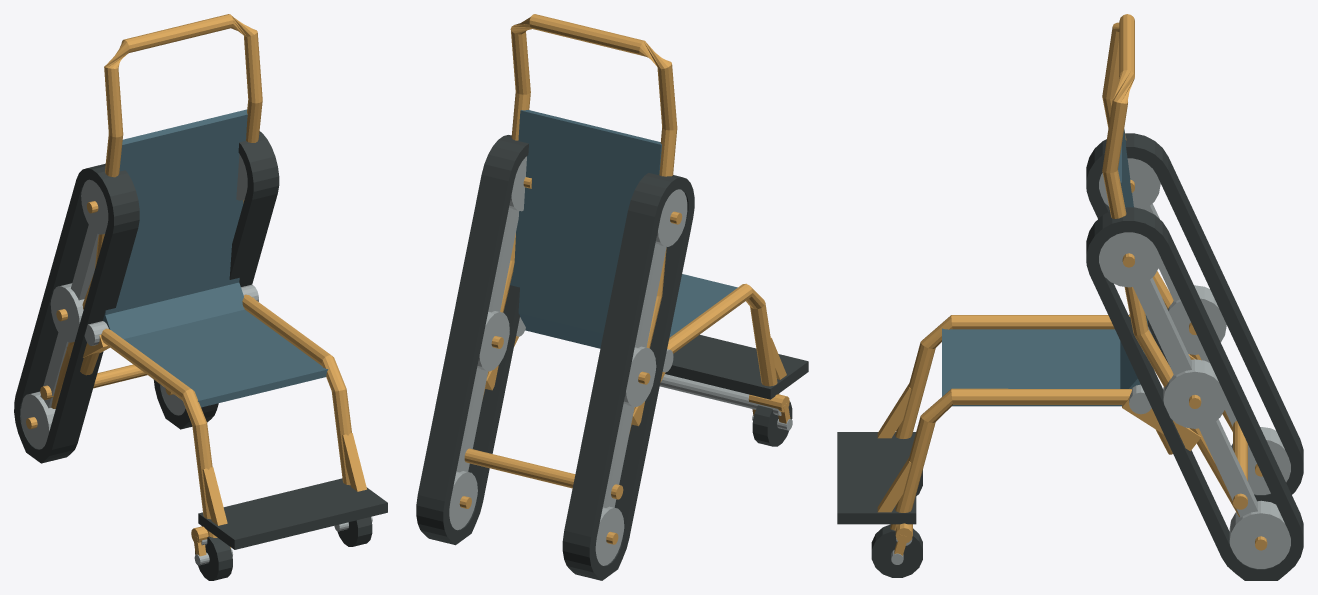
3 renders of one model, left to right at view 1: azimuth 30°, elevation 25°; view 2: azimuth 150°, elevation 25°; view 3: azimuth 270°, elevation 25°, orthographic. The views are drawn at different scales.
Visible parts, largest first — view 1: WholeContinuousSeatBackSling, WholeRearGroundFootTrack-1, WholeFrontFootPlatform, WholeTallBackAndCarryHoop, WholeRearGroundFootTrack1, WholeFrontSeatAndStandingSide-1, WholeFrontSeatAndStandingSide1, WholeInclinedTrackBearingRail-1, WholeTrackRoller(-1, 1), WholeTrackRoller(-1, 0), WholeFrontGroundFootWheel-1, WholeTrackRoller(-1, 2) (+4 smaller); view 2: WholeContinuousSeatBackSling, WholeRearGroundFootTrack-1, WholeRearGroundFootTrack1, WholeTallBackAndCarryHoop, WholeFrontFootPlatform, WholeFrontSeatAndStandingSide-1, WholeInclinedTrackBearingRail-1, WholeInclinedTrackBearingRail1, WholeRearLowCrossTie, WholeFrontTransverseSupport, WholeTrackRoller(1, 1), WholeTrackRoller(-1, 1) (+5 smaller); view 3: WholeRearGroundFootTrack1, WholeContinuousSeatBackSling, WholeRearGroundFootTrack-1, WholeTallBackAndCarryHoop, WholeFrontFootPlatform, WholeFrontSeatAndStandingSide1, WholeFrontSeatAndStandingSide-1, WholeInclinedTrackBearingRail1, WholeTrackRoller(1, 1), WholeTrackRoller(1, 0), WholeTrackRoller(1, 2), WholeFrontGroundFootWheel1 (+8 smaller).
Part boxes in pixels (x1=…): WholeContinuousSeatBackSling: x1=103, y1=109, x2=328, y2=407; WholeRearGroundFootTrack-1: x1=14, y1=163, x2=139, y2=463; WholeFrontFootPlatform: x1=198, y1=478, x2=387, y2=549; WholeTallBackAndCarryHoop: x1=51, y1=14, x2=262, y2=408; WholeRearGroundFootTrack1: x1=153, y1=131, x2=279, y2=429; WholeFrontSeatAndStandingSide-1: x1=80, y1=328, x2=217, y2=537; WholeFrontSeatAndStandingSide1: x1=242, y1=294, x2=351, y2=485; WholeInclinedTrackBearingRail-1: x1=40, y1=224, x2=98, y2=408; WholeTrackRoller(-1, 1): x1=50, y1=283, x2=84, y2=342; WholeTrackRoller(-1, 0): x1=21, y1=391, x2=55, y2=449; WholeFrontGroundFootWheel-1: x1=195, y1=536, x2=232, y2=580; WholeTrackRoller(-1, 2): x1=81, y1=179, x2=108, y2=234; WholeContinuousSeatBackSling: x1=510, y1=110, x2=737, y2=348; WholeRearGroundFootTrack-1: x1=562, y1=173, x2=694, y2=580; WholeRearGroundFootTrack1: x1=416, y1=135, x2=528, y2=545; WholeTallBackAndCarryHoop: x1=483, y1=14, x2=677, y2=433; WholeFrontFootPlatform: x1=665, y1=334, x2=808, y2=399; WholeFrontSeatAndStandingSide-1: x1=667, y1=283, x2=779, y2=394; WholeInclinedTrackBearingRail-1: x1=603, y1=243, x2=666, y2=507; WholeInclinedTrackBearingRail1: x1=456, y1=208, x2=519, y2=472; WholeRearLowCrossTie: x1=464, y1=448, x2=623, y2=499; WholeFrontTransverseSupport: x1=660, y1=374, x2=781, y2=415; WholeTrackRoller(1, 1): x1=477, y1=311, x2=509, y2=371; WholeTrackRoller(-1, 1): x1=623, y1=346, x2=656, y2=406; WholeRearGroundFootTrack1: x1=1086, y1=207, x2=1303, y2=580; WholeContinuousSeatBackSling: x1=942, y1=129, x2=1147, y2=406; WholeRearGroundFootTrack-1: x1=1086, y1=133, x2=1303, y2=504; WholeTallBackAndCarryHoop: x1=1102, y1=14, x2=1239, y2=516; WholeFrontFootPlatform: x1=837, y1=432, x2=916, y2=524; WholeFrontSeatAndStandingSide1: x1=890, y1=388, x2=1172, y2=530; WholeFrontSeatAndStandingSide-1: x1=895, y1=315, x2=1129, y2=438; WholeInclinedTrackBearingRail1: x1=1133, y1=277, x2=1257, y2=517; WholeTrackRoller(1, 1): x1=1163, y1=359, x2=1226, y2=428; WholeTrackRoller(1, 0): x1=1229, y1=500, x2=1290, y2=568; WholeTrackRoller(1, 2): x1=1099, y1=232, x2=1160, y2=287; WholeFrontGroundFootWheel1: x1=871, y1=524, x2=922, y2=577.
Size of the model in its own units: 0.64 by 1.59 by 1.36.
